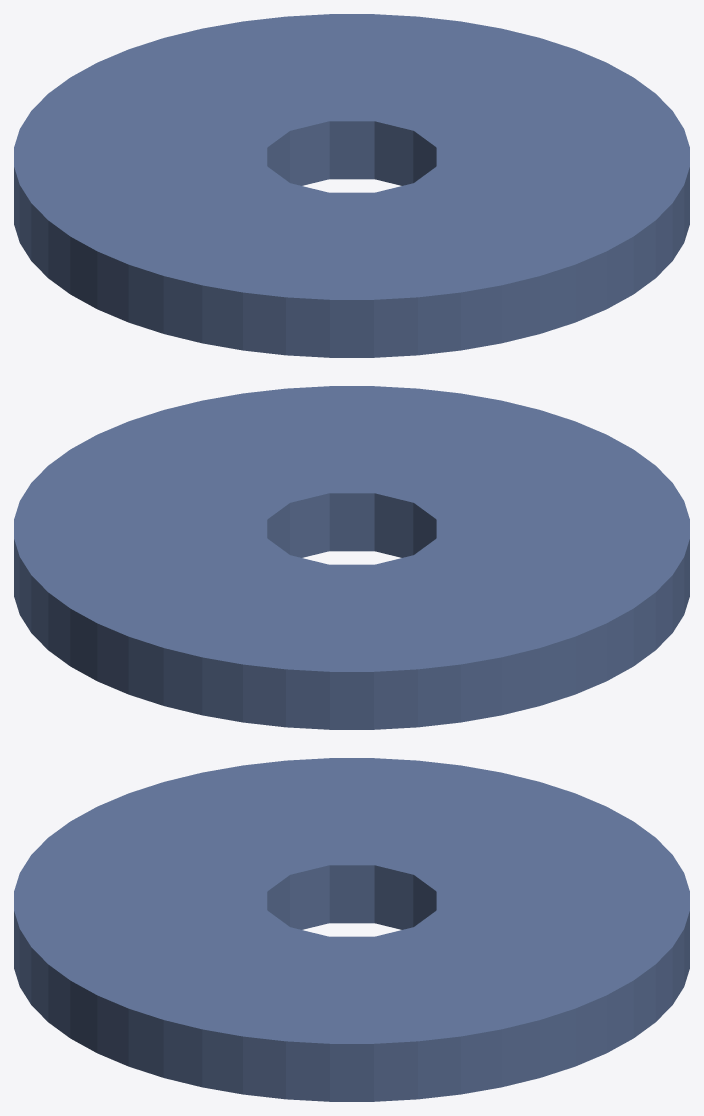
The model's file is Ring_00_Collider.fbx.
The picture shows the model from 3 angles, top to bottom: view 1: azimuth 30°, elevation 25°; view 2: azimuth 150°, elevation 25°; view 3: azimuth 270°, elevation 25°; orthographic projection.
Visible parts, largest first — view 1: Ring_00_Collider; view 2: Ring_00_Collider; view 3: Ring_00_Collider.
Part boxes in pixels (x1,y1,x2,y2): Ring_00_Collider: [14, 14, 689, 357]; Ring_00_Collider: [14, 386, 689, 729]; Ring_00_Collider: [14, 758, 689, 1101].
Size of the model in its own units: 188 by 17.78 by 188.
